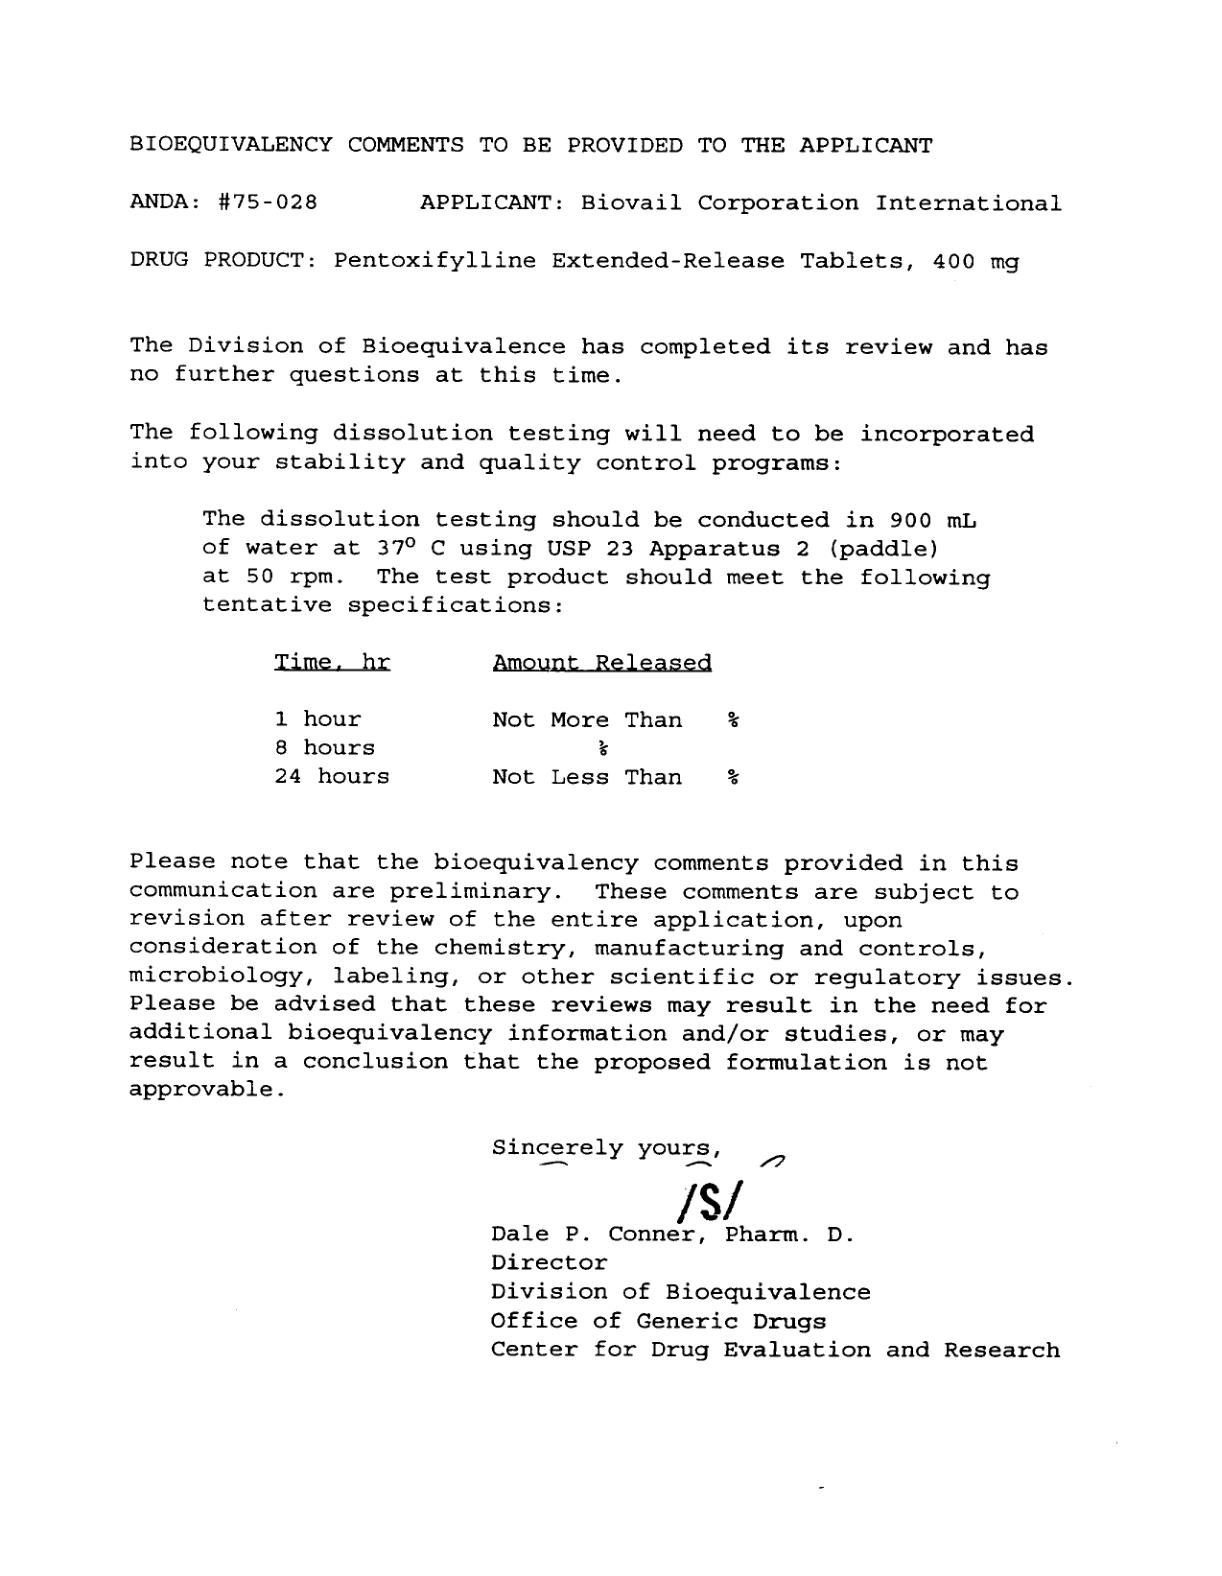nolines: (269, 646, 741, 796)
